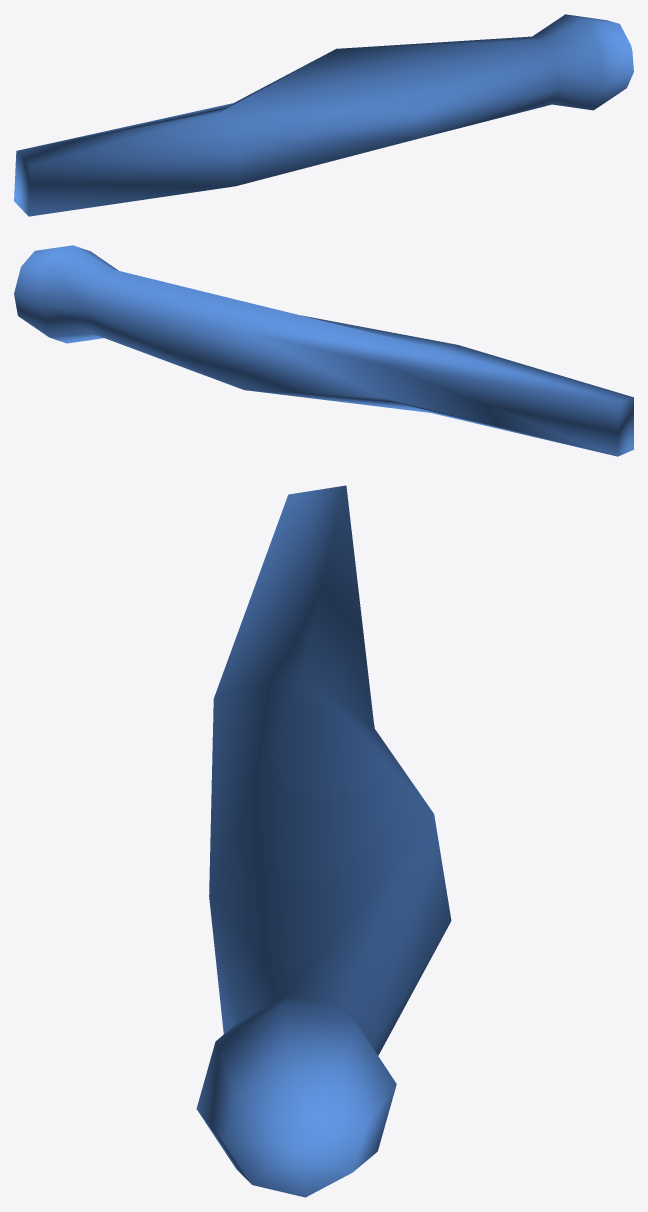
Rendered from upperarm.obj.
3 renders of one model, top to bottom at view 1: azimuth 30°, elevation 25°; view 2: azimuth 150°, elevation 25°; view 3: azimuth 270°, elevation 25°, orthographic. The views are drawn at different scales.
Parts seen in each view (by area): view 1: upperarm; view 2: upperarm; view 3: upperarm.
Part boxes in pixels (left/top/right/bottom): upperarm: left=14, top=14, right=633, bottom=216; upperarm: left=14, top=245, right=633, bottom=456; upperarm: left=196, top=485, right=451, bottom=1197.
Size of the model in its own units: 7.41 by 1.06 by 1.35.
